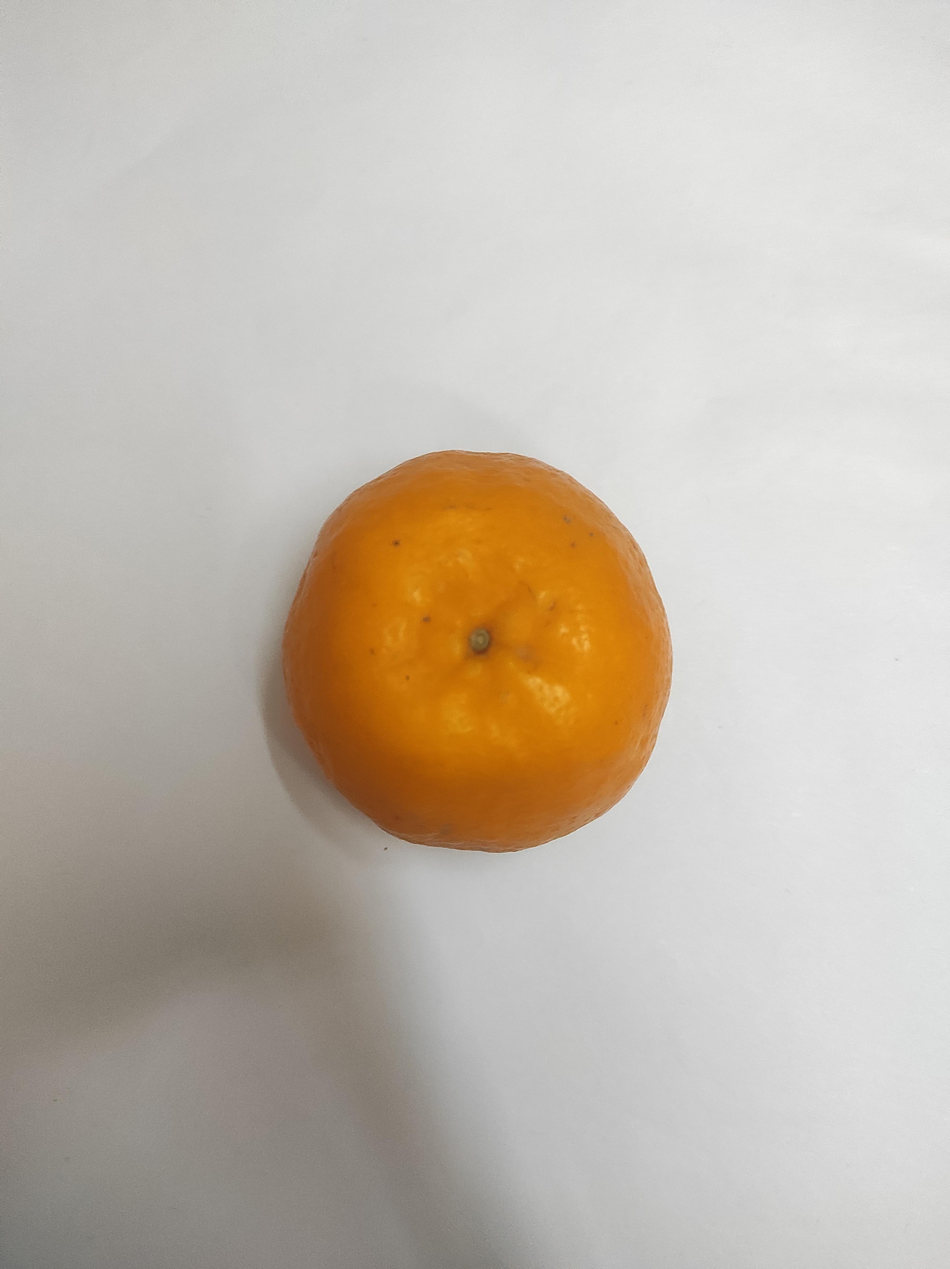Orange Ripe: (213, 607, 500, 1141)
